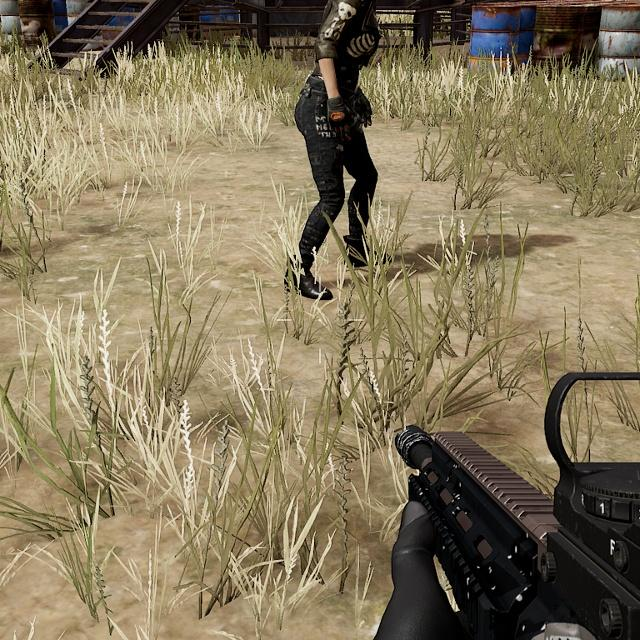people: (283, 0, 394, 305)
